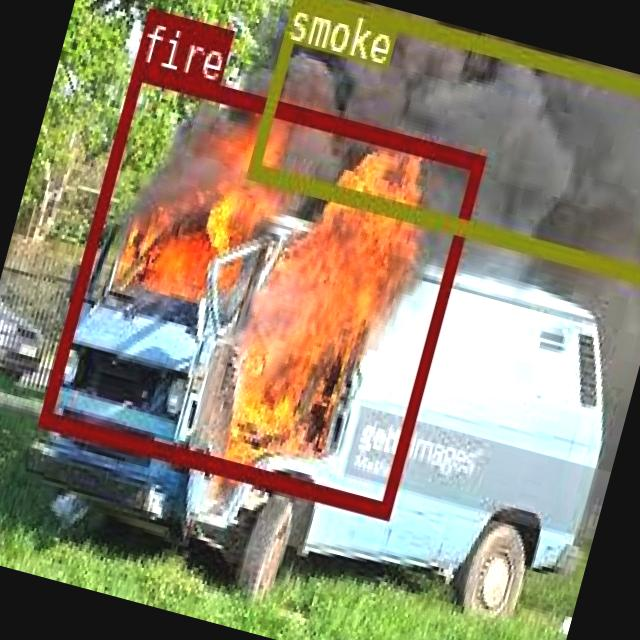fire: (38, 61, 482, 516)
smoke: (244, 0, 640, 283)
